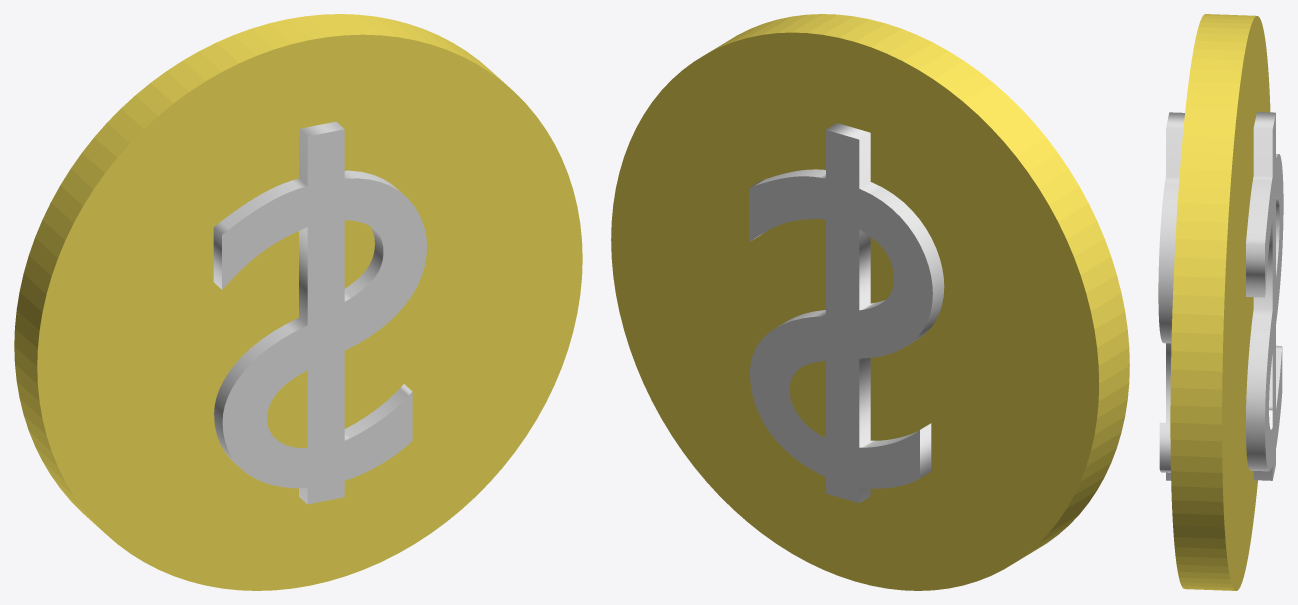
File: Coinspin.glb
The picture shows the model from 3 angles, left to right: view 1: azimuth 30°, elevation 25°; view 2: azimuth 150°, elevation 25°; view 3: azimuth 270°, elevation 25°; orthographic projection. The views are drawn at different scales.
Parts seen in each view (by area): view 1: Coin, DollarFront; view 2: Coin, DollarBack; view 3: Coin, DollarBack, DollarFront.
Part boxes in pixels (left/top/right/bottom): Coin: left=14, top=14, right=582, bottom=590; DollarFront: left=213, top=121, right=426, bottom=504; Coin: left=611, top=14, right=1129, bottom=590; DollarBack: left=749, top=123, right=944, bottom=503; Coin: left=1170, top=14, right=1270, bottom=590; DollarBack: left=1246, top=112, right=1283, bottom=480; DollarFront: left=1158, top=112, right=1184, bottom=480.
Bounding box in the file's own units: 1.2 × 1.2 × 0.2609.
